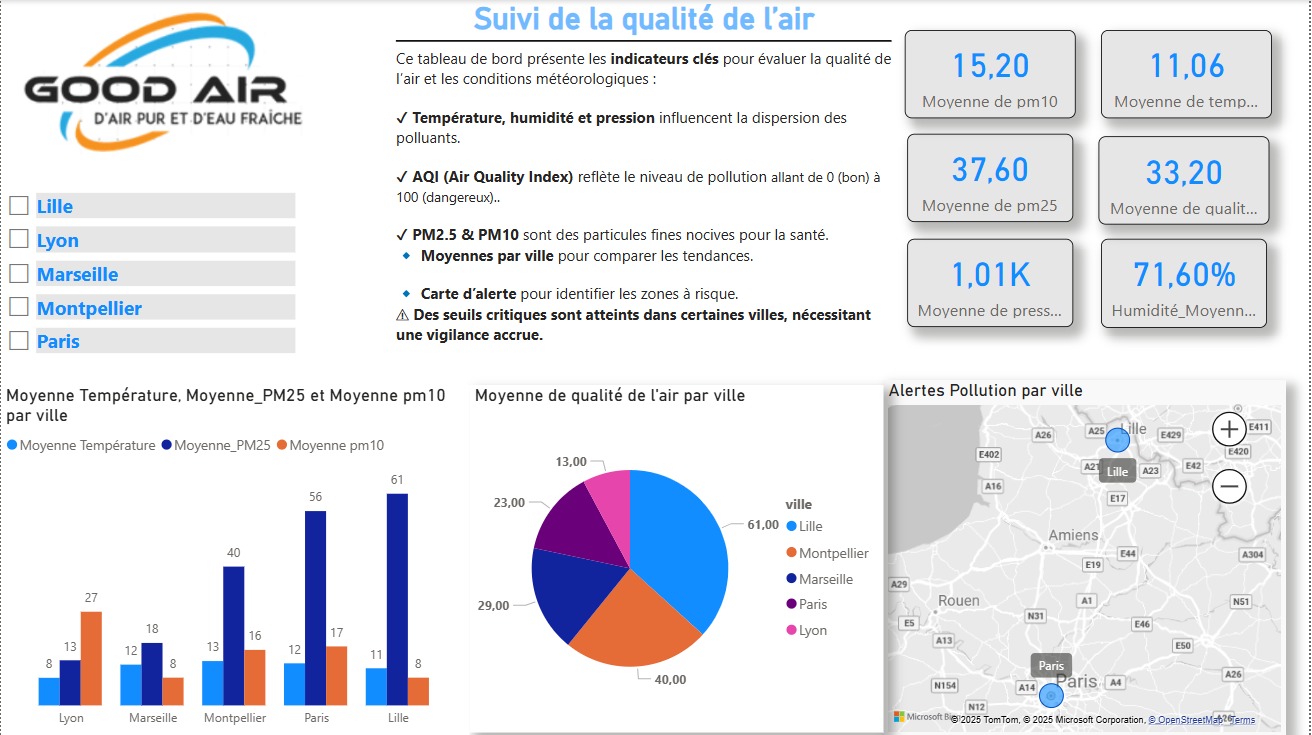

The page's visual inventory and layout, read from the dashboard file:
{"tool":"powerbi","page":{"name":"Page 1","canvas":[1280,720],"ordinal":0},"visuals":[{"type":"card","fields":{"Values":["data_warehouse.Moyenne Pression"]},"box":[876.8,233.6,172.4,86.8],"z":0},{"type":"card","fields":{"Values":["data_warehouse.Température_Etiq"]},"box":[1060.2,29.3,183.4,85.6],"z":1000},{"type":"card","fields":{"Values":["data_warehouse.PM25 Moyenne"]},"box":[876.8,130.8,172.4,89.3],"z":2000},{"type":"map","fields":{"Category":["public data_warehouse.ville"],"Size":["data_warehouse.Alertes Pollution"]},"box":[863.8,371.2,393.8,348.8],"z":3000},{"type":"slicer","fields":{"Values":["public data_warehouse.ville"]},"box":[0,184.4,287.8,165.6],"z":4000},{"type":"image","box":[0,0,342.4,174.9],"z":5000},{"type":"textbox","title":" Suivi de la qualité de l’air","box":[381,0,494.9,350.6],"z":6000},{"type":"pieChart","fields":{"Y":["Avg(public data_warehouse.qualité de l'air)"],"Category":["public data_warehouse.ville"]},"box":[458.8,376.2,405,340],"z":7000},{"type":"card","fields":{"Values":["data_warehouse.Humidité_Moyenne_Pourcentage"]},"box":[1060.2,233.6,178.5,86.8],"z":8000},{"type":"card","fields":{"Values":["data_warehouse.Moyenne AQI"]},"box":[1060.2,133.3,179.8,86.8],"z":9000},{"type":"card","fields":{"Values":["data_warehouse.PM10 Moyenne"]},"box":[876.8,29.3,174.9,86.8],"z":10000},{"type":"clusteredColumnChart","fields":{"Category":["data_warehouse.ville"],"Y":["data_warehouse.Moyenne Température","data_warehouse.Moyenne_PM25","Avg(data_warehouse.pm10)"]},"box":[0,376.2,458.8,343.8],"z":11000}]}

Visuals, with their boxes in screenshot pixels (x1, y1, x2, y2), scaled from the page's 1280x720 canvas onto the 1312x735 screenshot:
card - data_warehouse.Moyenne Pression: [left=899, top=238, right=1075, bottom=327]
card - data_warehouse.Température_Etiq: [left=1087, top=30, right=1275, bottom=117]
card - data_warehouse.PM25 Moyenne: [left=899, top=134, right=1075, bottom=225]
map - public data_warehouse.ville x data_warehouse.Alertes Pollution: [left=885, top=379, right=1289, bottom=734]
slicer - public data_warehouse.ville: [left=0, top=188, right=295, bottom=357]
image: [left=0, top=0, right=351, bottom=179]
" Suivi de la qualité de l’air" textbox: [left=391, top=0, right=898, bottom=358]
pieChart - Avg(public data_warehouse.qualité de l'air) x public data_warehouse.ville: [left=470, top=384, right=885, bottom=731]
card - data_warehouse.Humidité_Moyenne_Pourcentage: [left=1087, top=238, right=1270, bottom=327]
card - data_warehouse.Moyenne AQI: [left=1087, top=136, right=1271, bottom=225]
card - data_warehouse.PM10 Moyenne: [left=899, top=30, right=1078, bottom=119]
clusteredColumnChart - data_warehouse.ville x data_warehouse.Moyenne Température: [left=0, top=384, right=470, bottom=734]
